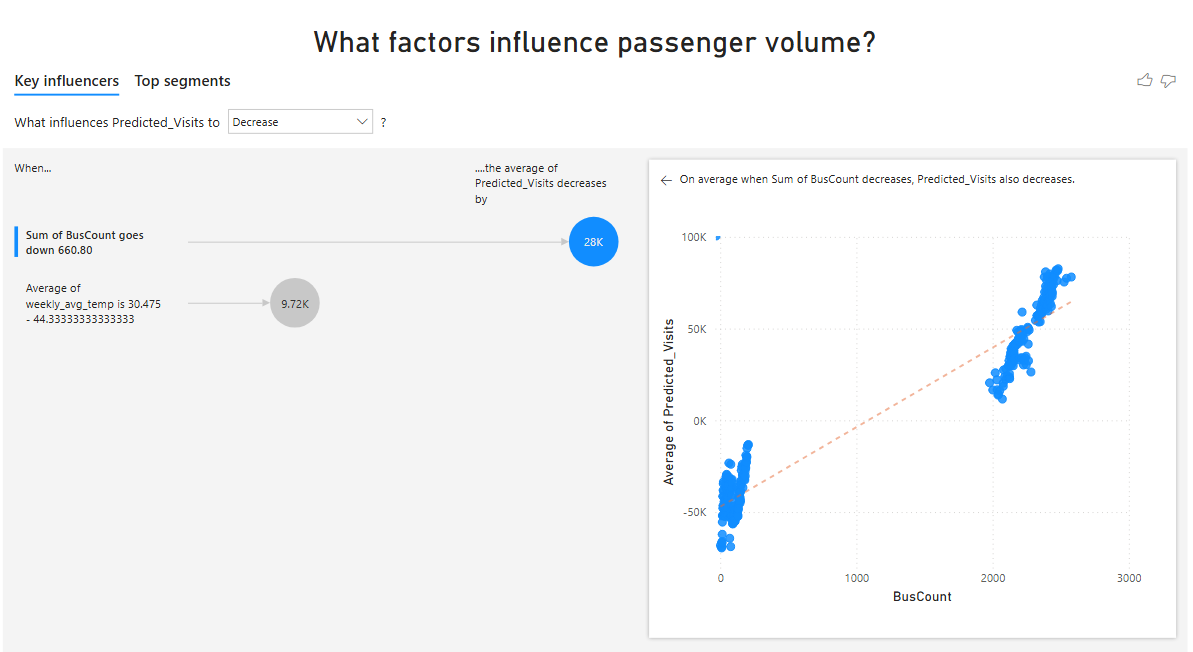

The page's visual inventory and layout, read from the dashboard file:
{"tool":"powerbi","page":{"name":"PowerBI Factor Analysis","canvas":[1280,720],"ordinal":3},"visuals":[{"type":"keyDriversVisual","title":"What factors influence passenger volume?","fields":{"Target":["Predicted_Table.Predicted_Visits"],"ExplainBy":["Avg(Predicted_Table.weekly_avg_temp)","Avg(Predicted_Table.weekly_avg_snow)","Avg(Predicted_Table.weekly_avg_precip)","Avg(Predicted_Table.weekly_avg_wind)","CountNonNull(Predicted_Table.IsHolidayWeek)","Sum(Predicted_Table.BusCount)","Predicted_Table.HolidayInWeek"]},"box":[14.1,43.8,1250.6,676.9],"z":0}]}

Visuals, with their boxes in screenshot pixels (x1, y1, x2, y2), scaled from the page's 1280x720 canvas onto the 1193x652 screenshot:
"What factors influence passenger volume?" keyDriversVisual: (13, 40, 1179, 651)
